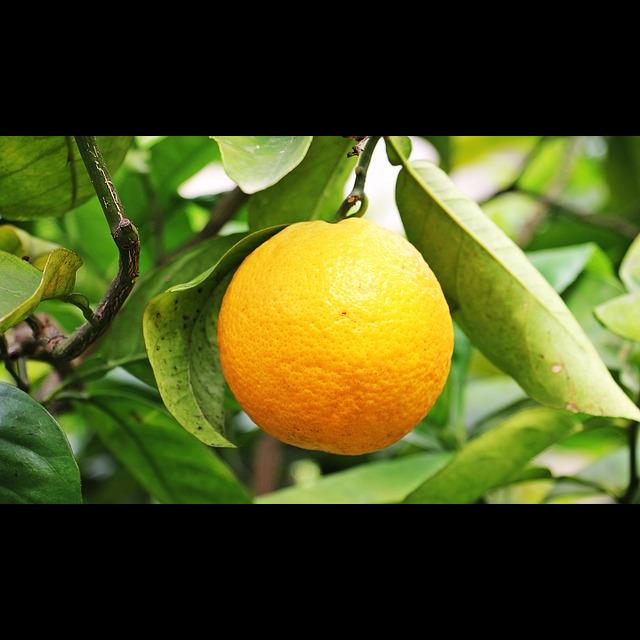orange: (201, 208, 472, 458)
